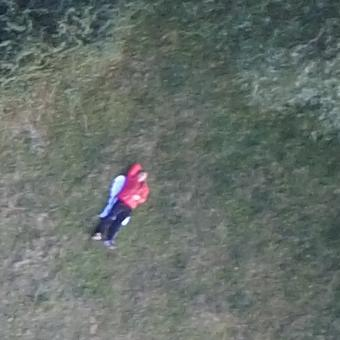human: (92, 163, 154, 246)
